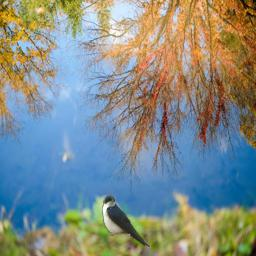Swallow: (102, 194, 151, 248)
